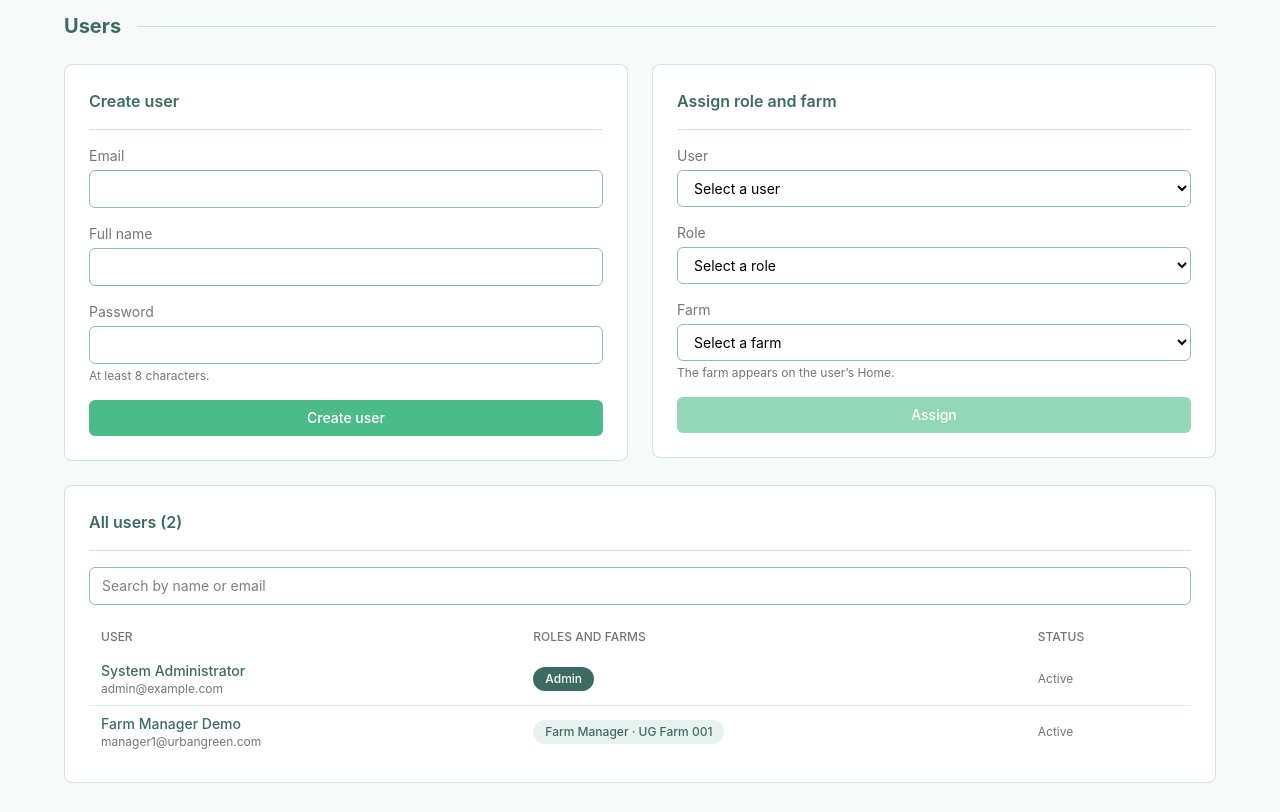
Scenario: Users › sends no farm for the Admin role
Expected: the text "Farm Manager Demo" is shown, 101,715 -> 241,732
Select "Farm Manager Demo (manager1@urbangreen.com)" in the dropdown labelled "User" at (934, 188), box 677,170 -> 1191,207
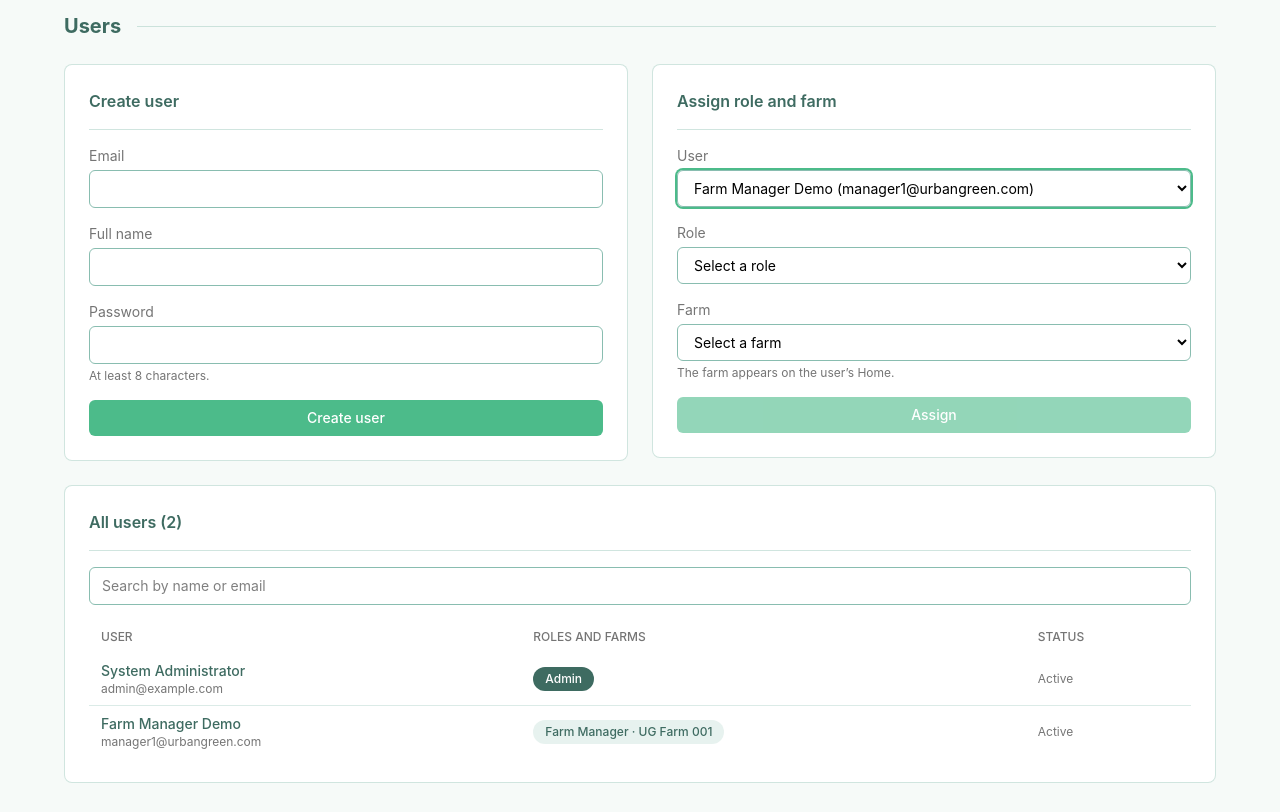
Select "Admin" in the dropdown labelled "Role" at (934, 266), box 677,247 -> 1191,284
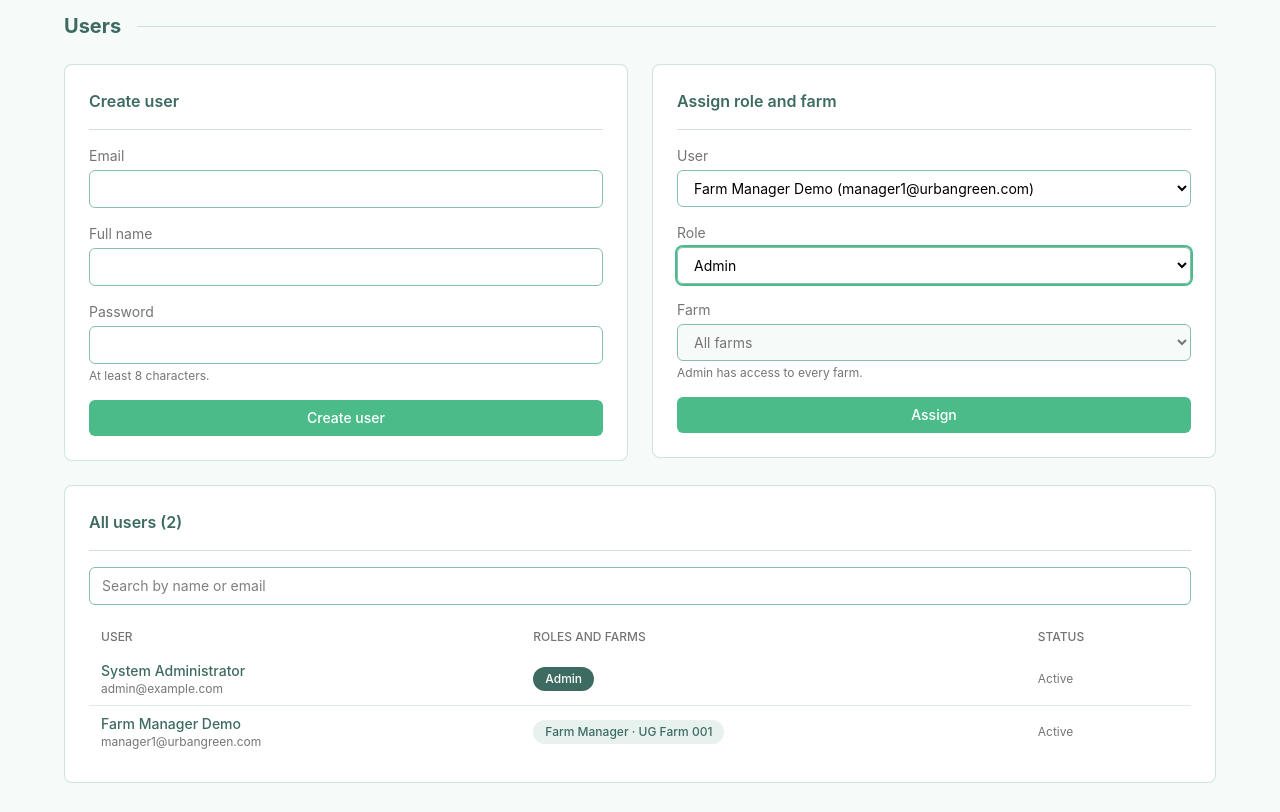
Expected: the dropdown labelled "Farm" is disabled, 677,324 -> 1191,361
Click the button "Assign" at (934, 415), box 677,397 -> 1191,433
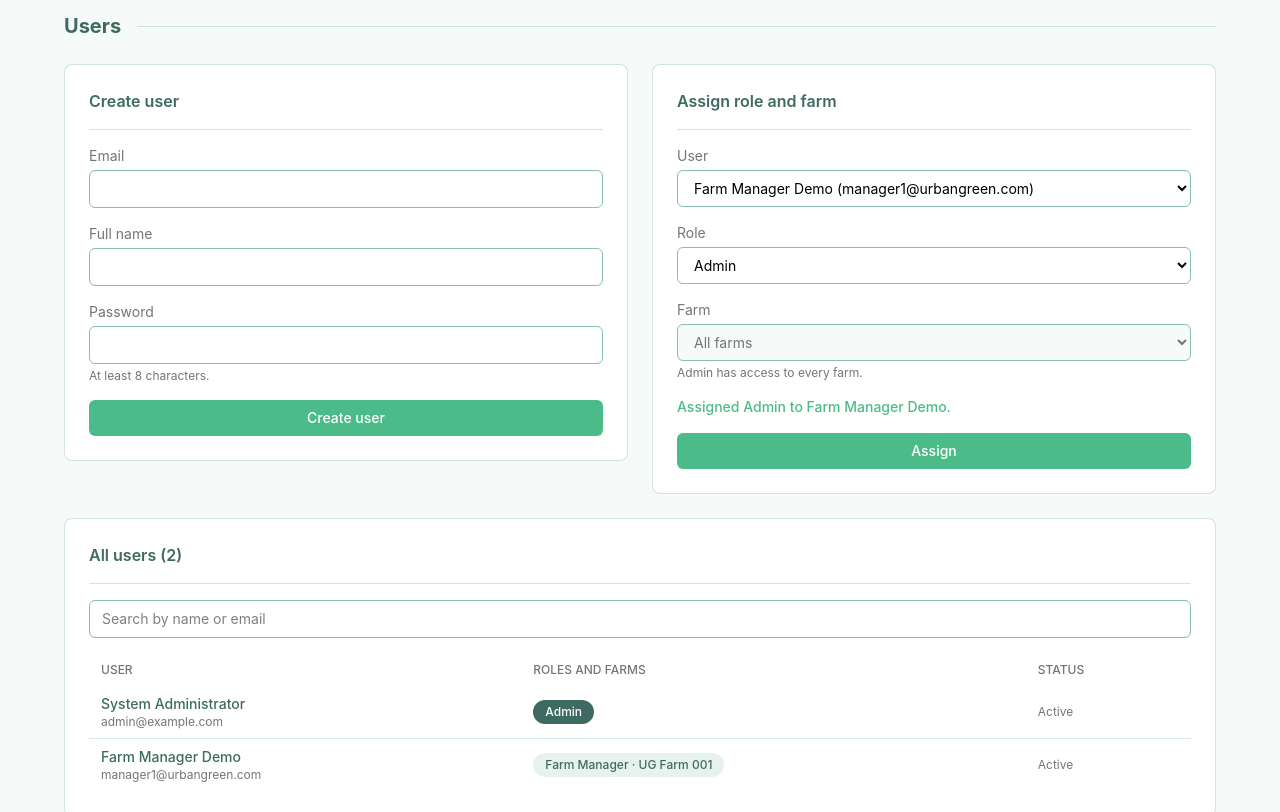
Expected: the message "Assigned Admin to Farm Manager Demo." is shown, 677,398 -> 951,415
